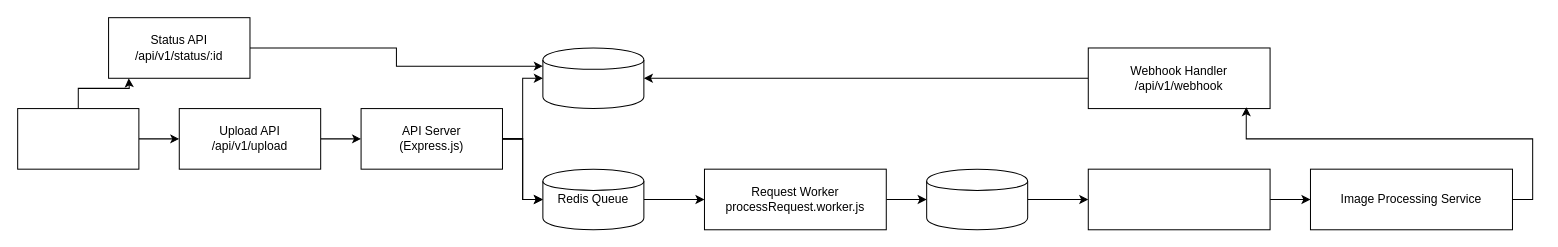
Some shapes in this 1558 by 247 pixel diagram are drawn without their labels. Each missing label, with the box of its shape:
Client (Postman / Browser): (17, 108, 139, 169)
Image Queue: (926, 168, 1028, 230)
Image Worker processImage.worker.js: (1087, 168, 1270, 230)
MongoDB: (542, 47, 644, 109)
